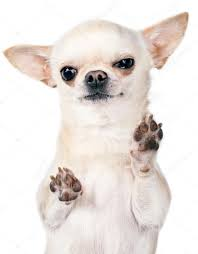chihuahua: (3, 11, 191, 254)
